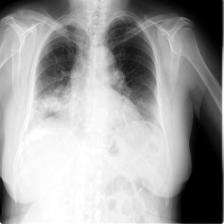tuberculosis: (26, 8, 168, 161)
